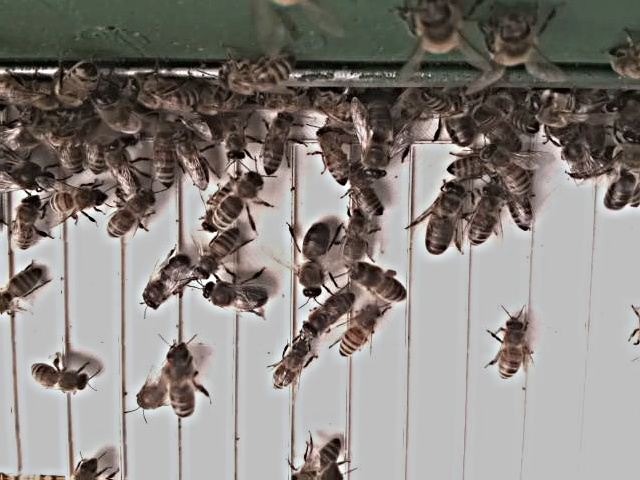Drone: (139, 252, 194, 314), (422, 181, 465, 258), (296, 221, 333, 305), (163, 340, 198, 424), (197, 278, 272, 315), (359, 100, 392, 182)
Worker: (211, 172, 261, 234), (478, 140, 532, 196), (192, 227, 242, 285), (335, 304, 382, 362), (349, 261, 408, 305), (300, 293, 353, 340), (466, 181, 502, 250), (105, 192, 154, 242), (343, 167, 386, 221), (496, 318, 530, 385), (0, 265, 44, 316), (339, 209, 374, 272), (269, 340, 310, 393), (176, 136, 211, 197), (26, 362, 90, 395), (314, 125, 348, 187), (262, 112, 293, 179), (10, 196, 42, 254), (149, 128, 177, 194), (442, 147, 498, 180), (45, 190, 106, 216)
